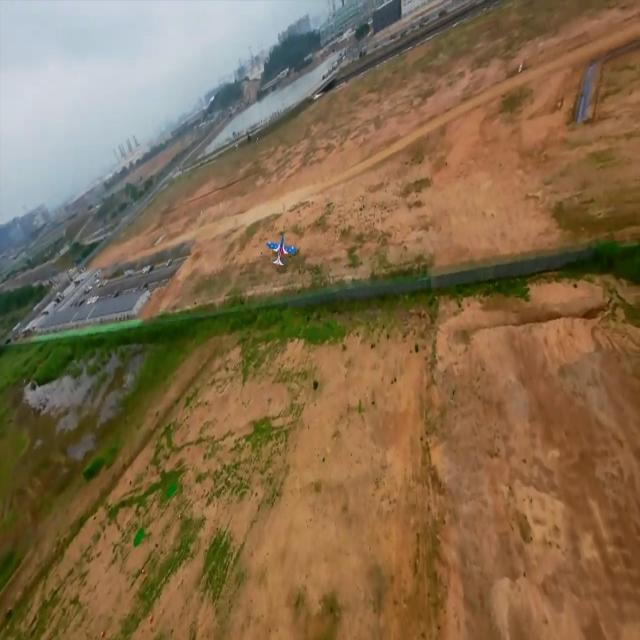iha: (264, 232, 300, 268)
